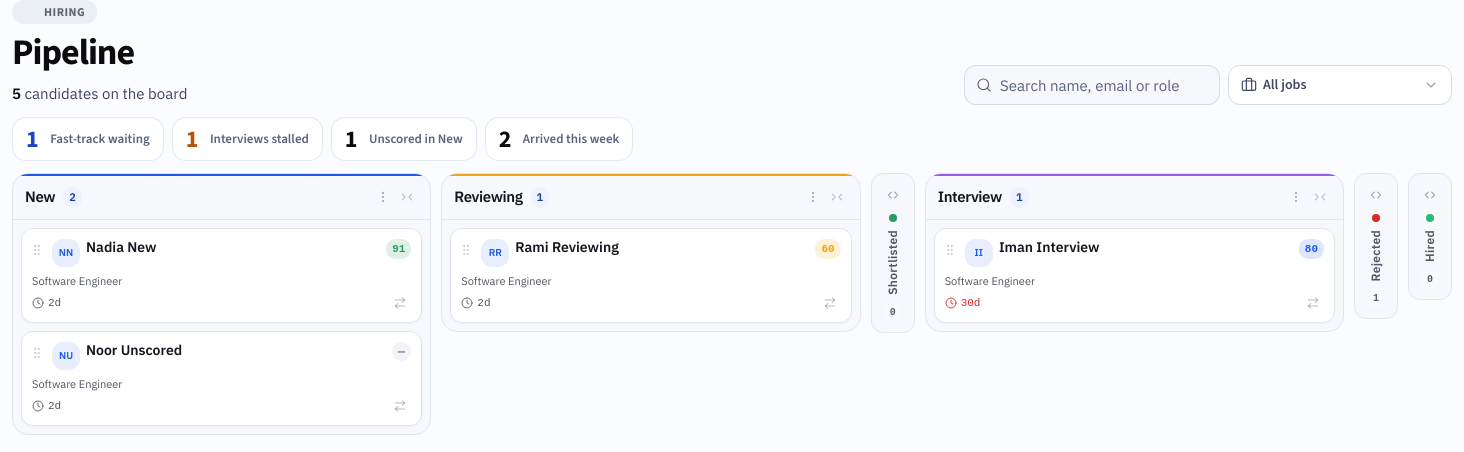
it: PipelineBoard › filters the board to exactly what a triage chip counted
Click the button titled "no movement for over a week" at (247, 139), box [172,117,323,161]
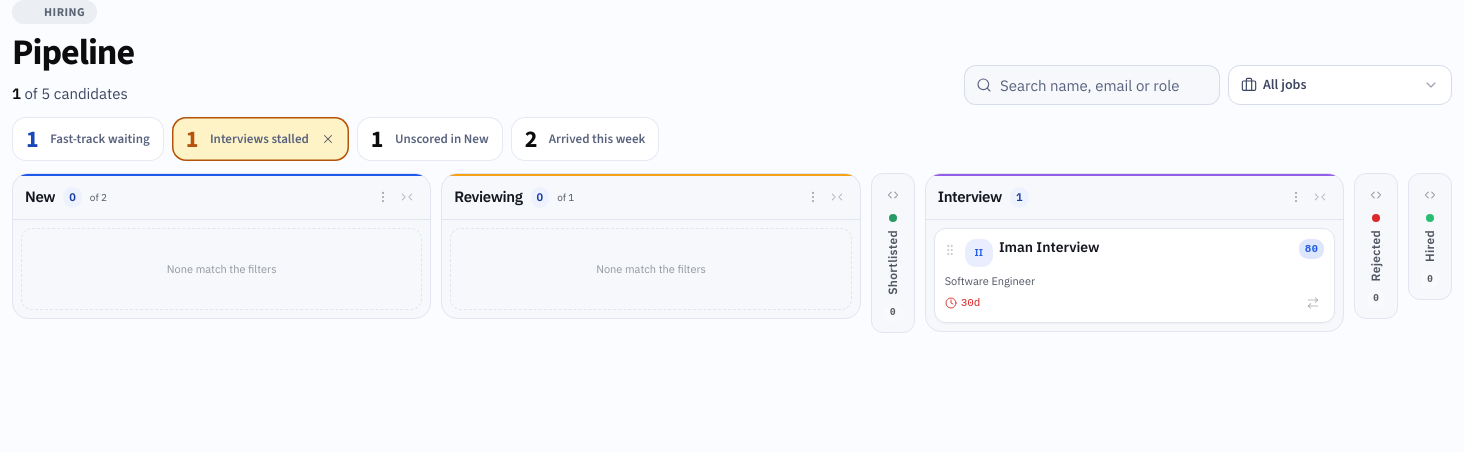
expect the link "Iman Interview" is shown: met, box [999,238,1100,256]
expect the link "Nadia New" is gone: met
expect the element showing "1 of 5 candidates" is shown: met, box [12,82,128,105]
